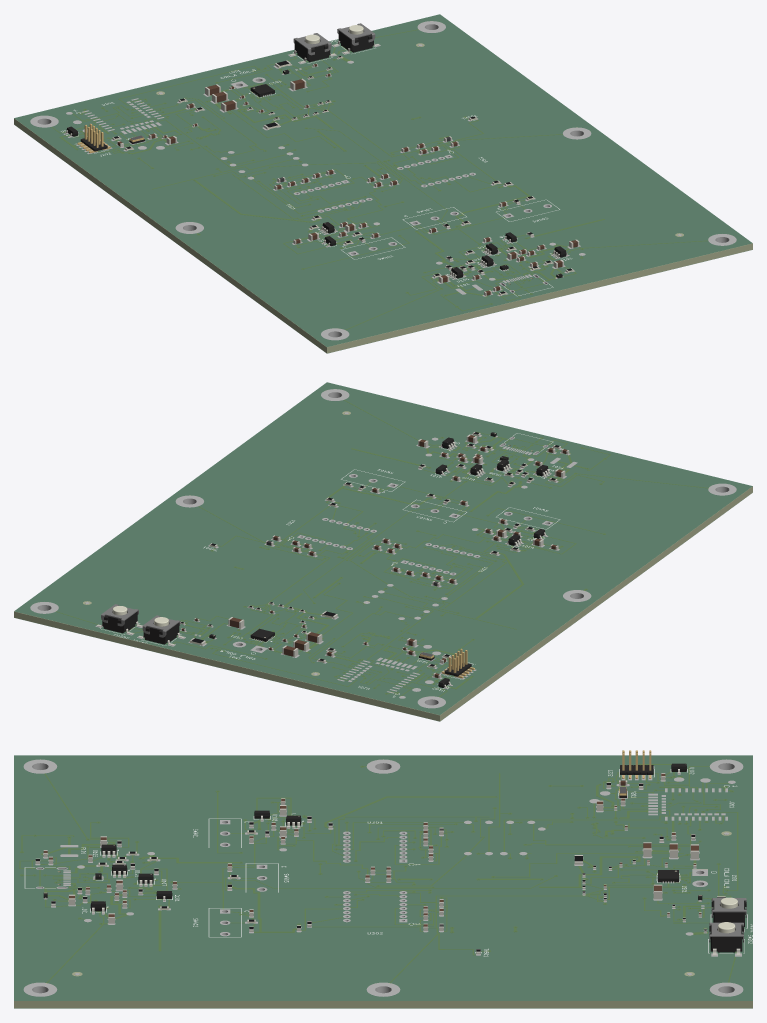
The model's file is trackball-base-review.glb.
3 renders of one model, top to bottom at view 1: azimuth 30°, elevation 25°; view 2: azimuth 150°, elevation 25°; view 3: azimuth 270°, elevation 25°, orthographic. The views are drawn at different scales.
Parts seen in each view (by area): view 1: =>[0:1:1:40], =>[0:1:1:42], =>[0:1:1:37], =>[0:1:1:29] (×2), =>[0:1:1:36], =>[0:1:1:39], =>[0:1:1:27]; view 2: =>[0:1:1:40], =>[0:1:1:42], =>[0:1:1:37], =>[0:1:1:29] (×2), =>[0:1:1:36], =>[0:1:1:39], =>[0:1:1:27]; view 3: =>[0:1:1:40], =>[0:1:1:42], =>[0:1:1:37], =>[0:1:1:36], =>[0:1:1:29] (×2), =>[0:1:1:39], =>[0:1:1:41], =>[0:1:1:27].
Part boxes in pixels (x1,y1,x2,y2): =>[0:1:1:40]: (14,14,752,346); =>[0:1:1:42]: (14,15,752,353); =>[0:1:1:37]: (30,21,736,340); =>[0:1:1:29] (×2): (289,23,379,63); =>[0:1:1:36]: (52,49,604,309); =>[0:1:1:39]: (61,39,572,296); =>[0:1:1:27]: (77,123,110,153); =>[0:1:1:40]: (14,382,752,714); =>[0:1:1:42]: (14,383,752,721); =>[0:1:1:37]: (30,389,736,708); =>[0:1:1:29] (×2): (97,604,184,645); =>[0:1:1:36]: (175,408,609,695); =>[0:1:1:39]: (100,433,563,697); =>[0:1:1:27]: (441,648,474,678); =>[0:1:1:40]: (14,755,752,1000); =>[0:1:1:42]: (14,756,752,1008); =>[0:1:1:37]: (23,759,744,996); =>[0:1:1:36]: (20,764,737,982); =>[0:1:1:29] (×2): (709,897,746,955); =>[0:1:1:39]: (24,766,752,956); =>[0:1:1:41]: (14,1008,752,1008); =>[0:1:1:27]: (620,750,653,778).
Bounding box in the file's own units: 0.11 × 0.00604 × 0.14.
